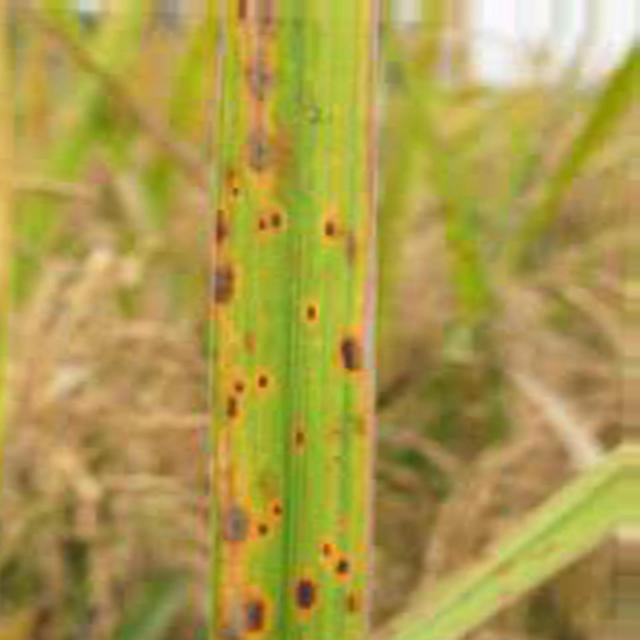Brown_Spot: (244, 48, 271, 99), (221, 504, 250, 541), (239, 0, 275, 29), (249, 129, 270, 171), (214, 265, 235, 302), (340, 336, 362, 370), (225, 166, 242, 205), (246, 600, 264, 630), (291, 426, 308, 454), (215, 210, 229, 244), (258, 211, 280, 232), (298, 580, 314, 608), (346, 235, 358, 266), (305, 301, 319, 324), (256, 371, 272, 390), (324, 216, 339, 236), (226, 398, 238, 418), (336, 559, 349, 574), (271, 212, 281, 229), (322, 542, 332, 556), (272, 502, 282, 516), (258, 524, 269, 536), (234, 381, 244, 392)
